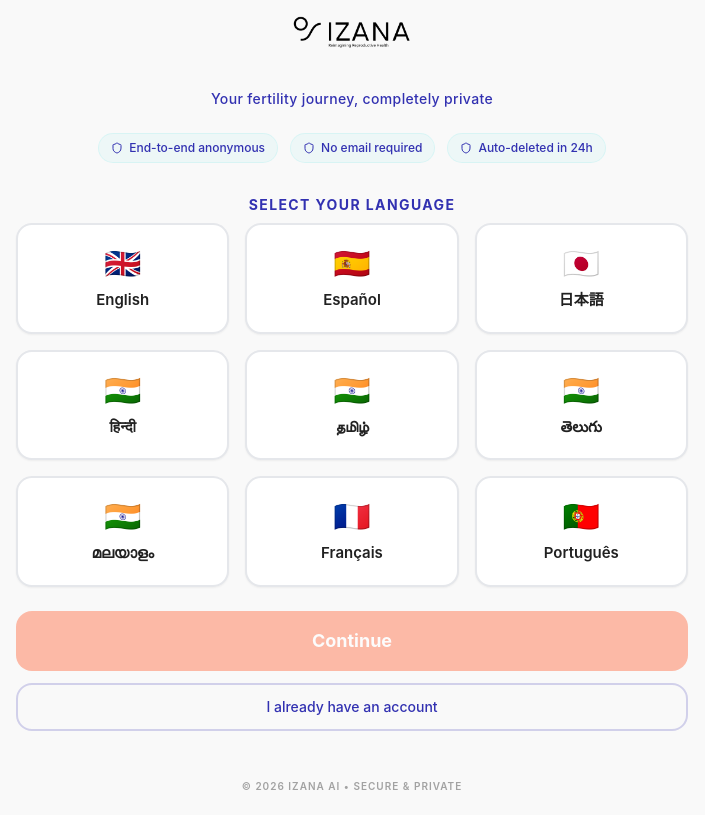
Onboarding Page › should navigate to consent step after language selection
This screenshot has width=705, height=815.
Click the text "English".
click(123, 300)  # box [96, 289, 149, 312]
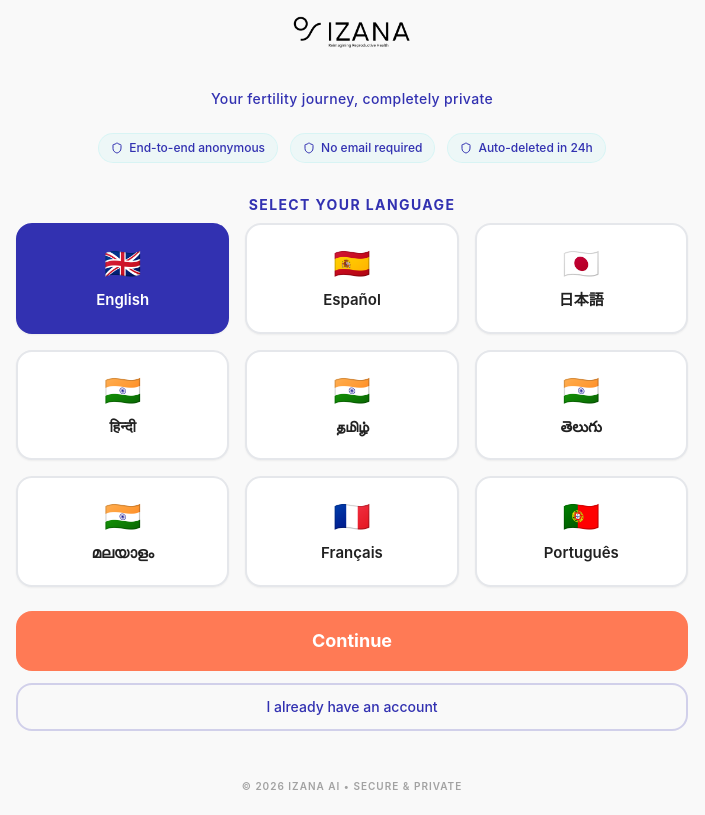
Click the button "Continue".
click(352, 640)  # box [16, 610, 688, 670]
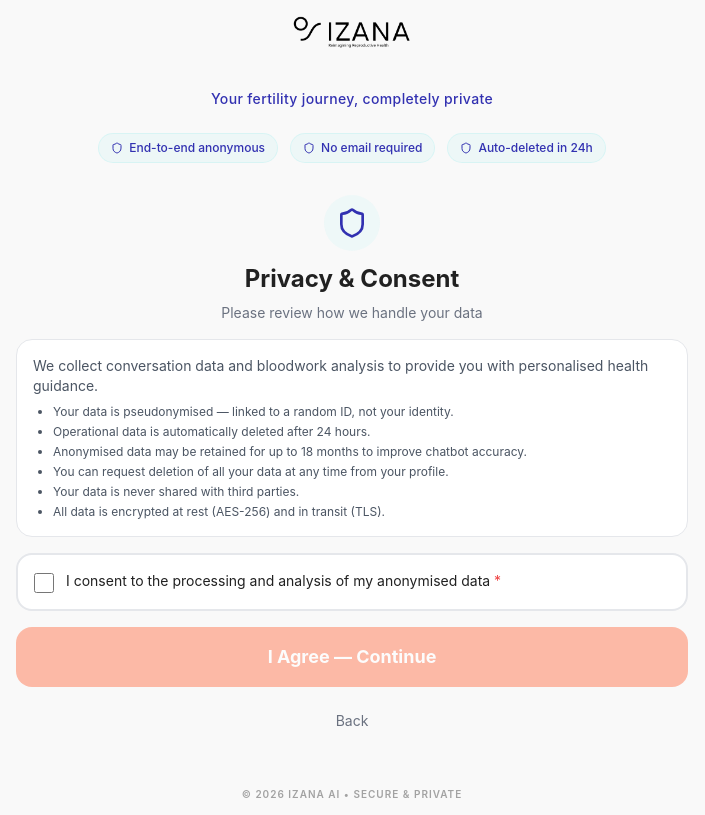
expect the heading "Privacy & Consent" is shown: met, box [245, 264, 459, 293]
